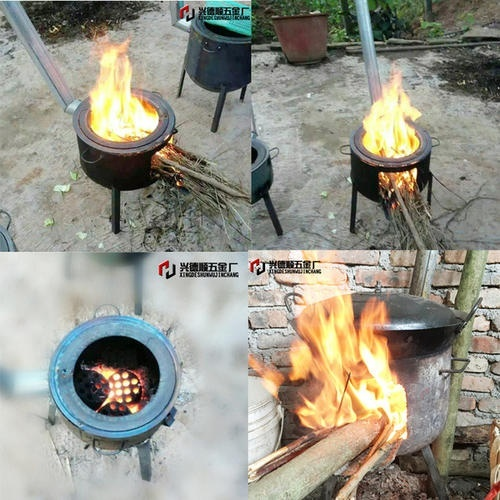fire: (284, 285, 408, 436), (87, 35, 159, 141), (362, 68, 422, 162), (92, 363, 147, 414), (249, 353, 285, 397)
